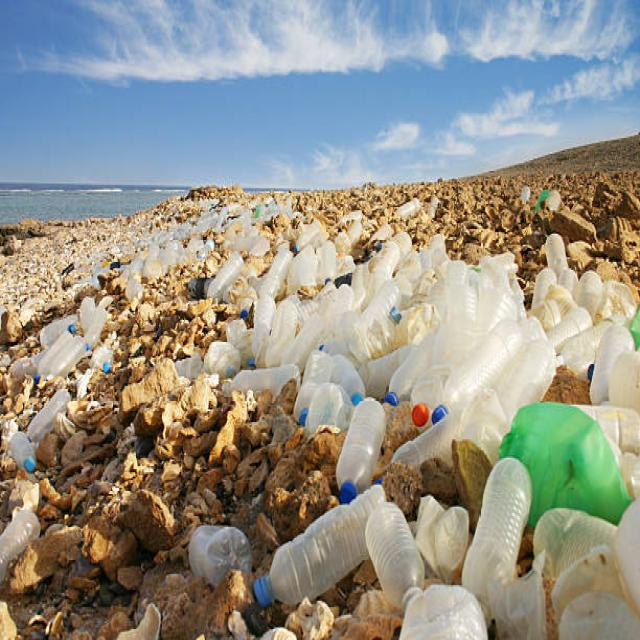plastic: (198, 219, 534, 426), (269, 436, 603, 639), (10, 278, 126, 417)
